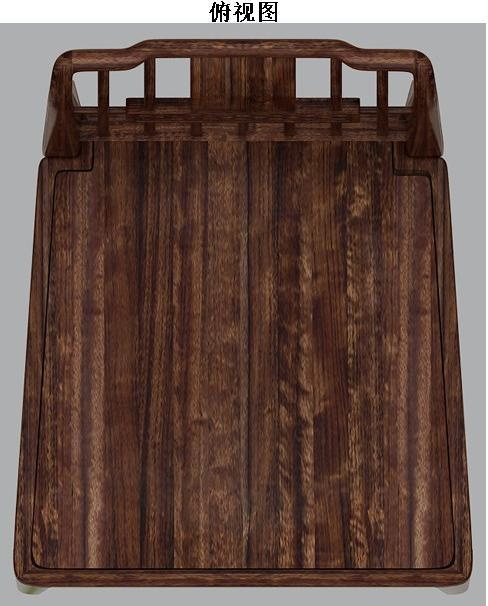obstacle: (14, 40, 470, 585)
